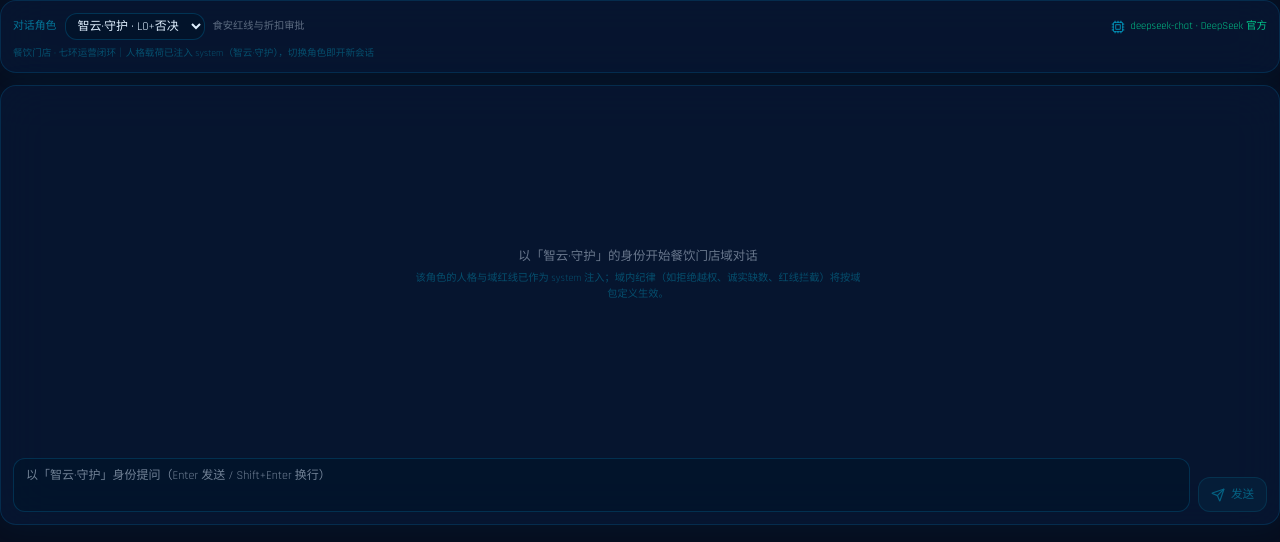
it: DomainChatPanel · 域内对话(Phase 1) › 2. 人格注入：system 为所选角色 Prompt，且发出用户消息
Type "临期食材先入库行吗" into the text box named "对话输入" at (602, 485), box [13,458,1190,512]
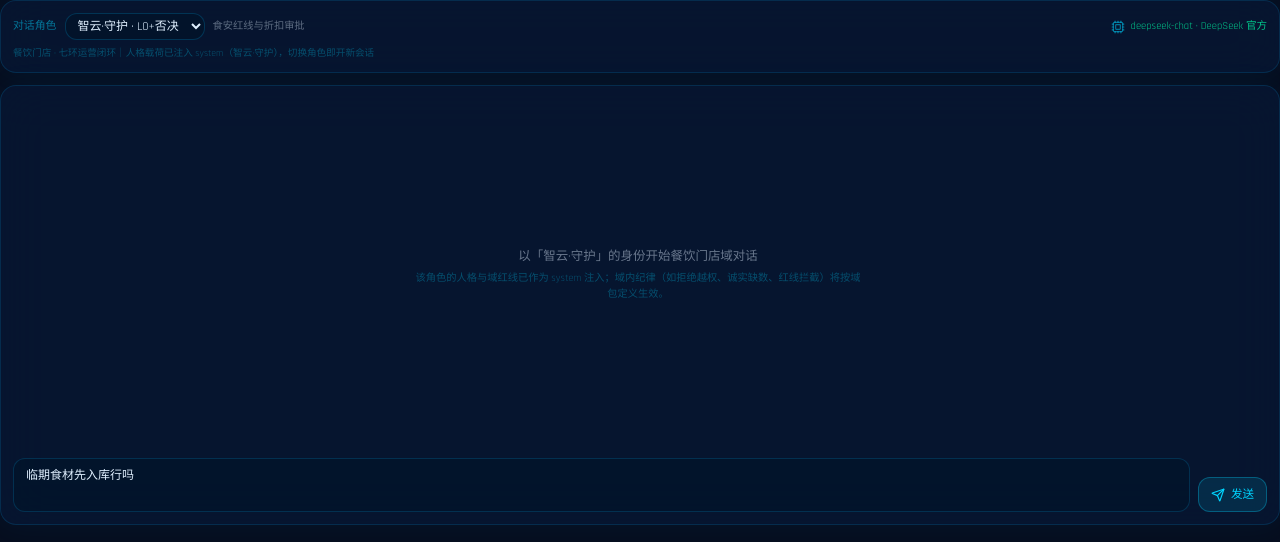
Click the button "发送" at (1232, 495), box [1198,477,1267,512]
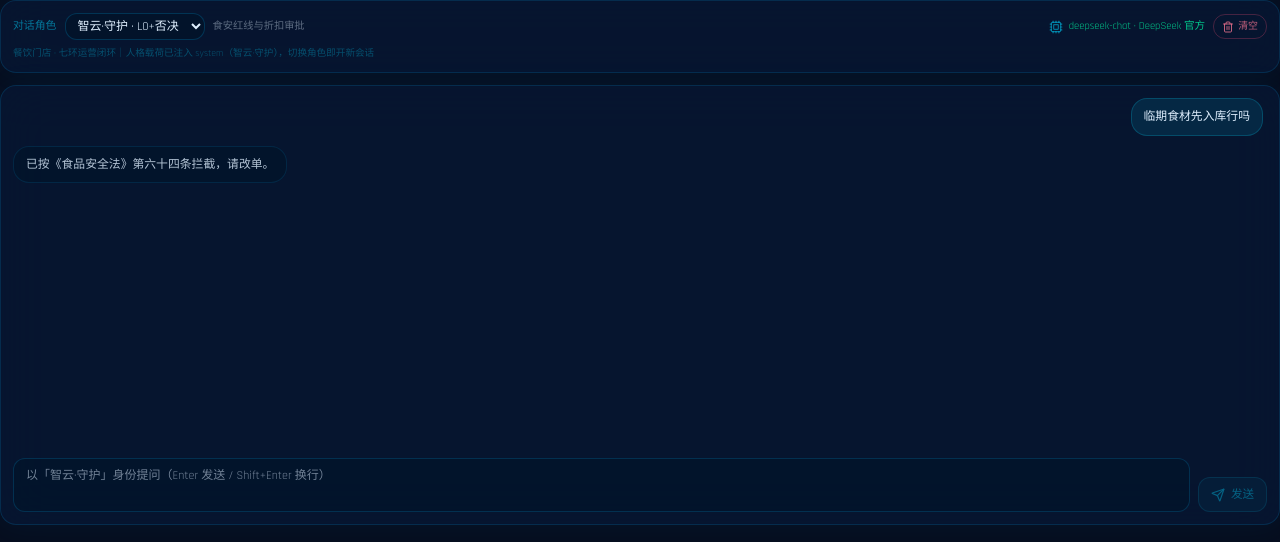
Expected: the text "已按《食品安全法》第六十四条拦截，请改单。" is shown, [13,146,287,183]
